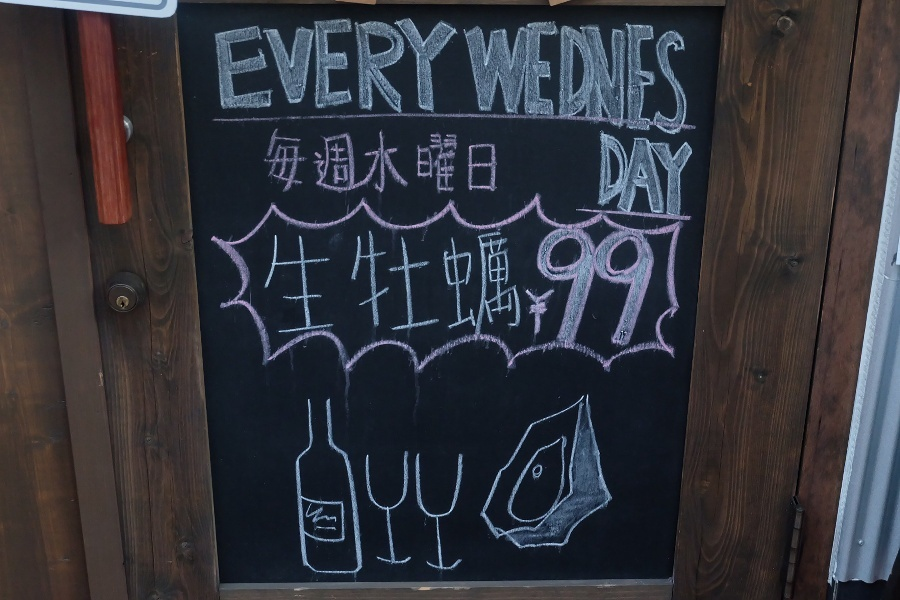text: (641, 218, 657, 347), (257, 218, 272, 347), (273, 218, 288, 347), (289, 218, 304, 347), (305, 218, 320, 347), (321, 218, 336, 347), (337, 218, 352, 347), (353, 218, 368, 347), (369, 218, 384, 347), (385, 218, 400, 347), (401, 218, 416, 347), (417, 218, 432, 347), (433, 218, 448, 347), (449, 218, 464, 347), (465, 218, 480, 347), (481, 218, 496, 347), (497, 218, 512, 347), (513, 218, 528, 347), (529, 218, 544, 347), (545, 218, 560, 347), (561, 218, 576, 347), (577, 218, 592, 347), (593, 218, 608, 347), (609, 218, 624, 347), (625, 218, 640, 347), (225, 18, 240, 136), (241, 18, 256, 136), (257, 18, 272, 136), (273, 18, 288, 136), (289, 18, 304, 136), (305, 18, 320, 136), (321, 18, 336, 136), (337, 18, 352, 136), (353, 18, 368, 136), (369, 18, 384, 136), (385, 18, 400, 136), (401, 18, 416, 136), (417, 18, 432, 136), (433, 18, 448, 136), (449, 18, 464, 136), (465, 18, 480, 136), (481, 18, 496, 136), (497, 18, 512, 136), (513, 18, 528, 136), (529, 18, 544, 136), (545, 18, 560, 136), (561, 18, 576, 136), (577, 18, 592, 136), (593, 18, 608, 136), (609, 18, 624, 136), (625, 18, 640, 136), (641, 18, 656, 136), (657, 18, 672, 136), (673, 18, 688, 136), (213, 18, 224, 136), (609, 131, 624, 217), (625, 131, 640, 217), (641, 131, 656, 217), (657, 131, 672, 217), (673, 131, 688, 217), (481, 130, 497, 197), (273, 130, 288, 197), (289, 130, 304, 197), (305, 130, 320, 197), (321, 130, 336, 197), (337, 130, 352, 197), (353, 130, 368, 197), (369, 130, 384, 197), (385, 130, 400, 197), (401, 130, 416, 197), (417, 130, 432, 197), (433, 130, 448, 197), (449, 130, 464, 197), (465, 130, 480, 197), (262, 130, 272, 197), (601, 131, 608, 217), (689, 131, 694, 217), (253, 218, 256, 347), (689, 18, 692, 136)
